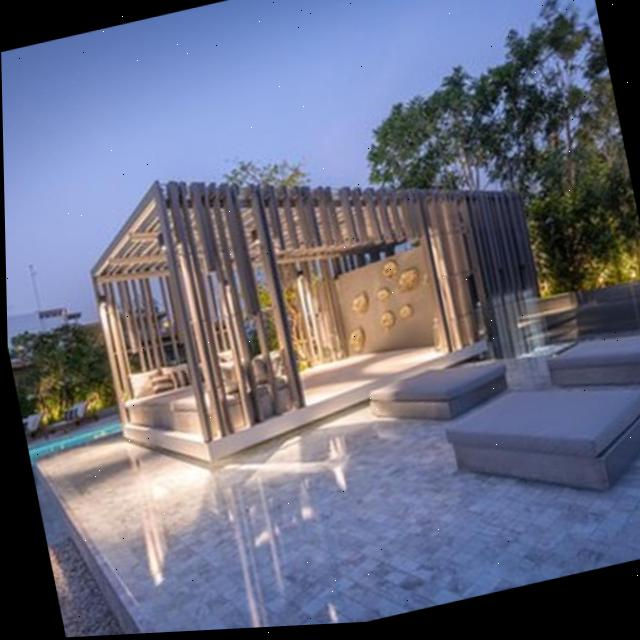building: (73, 98, 561, 487)
